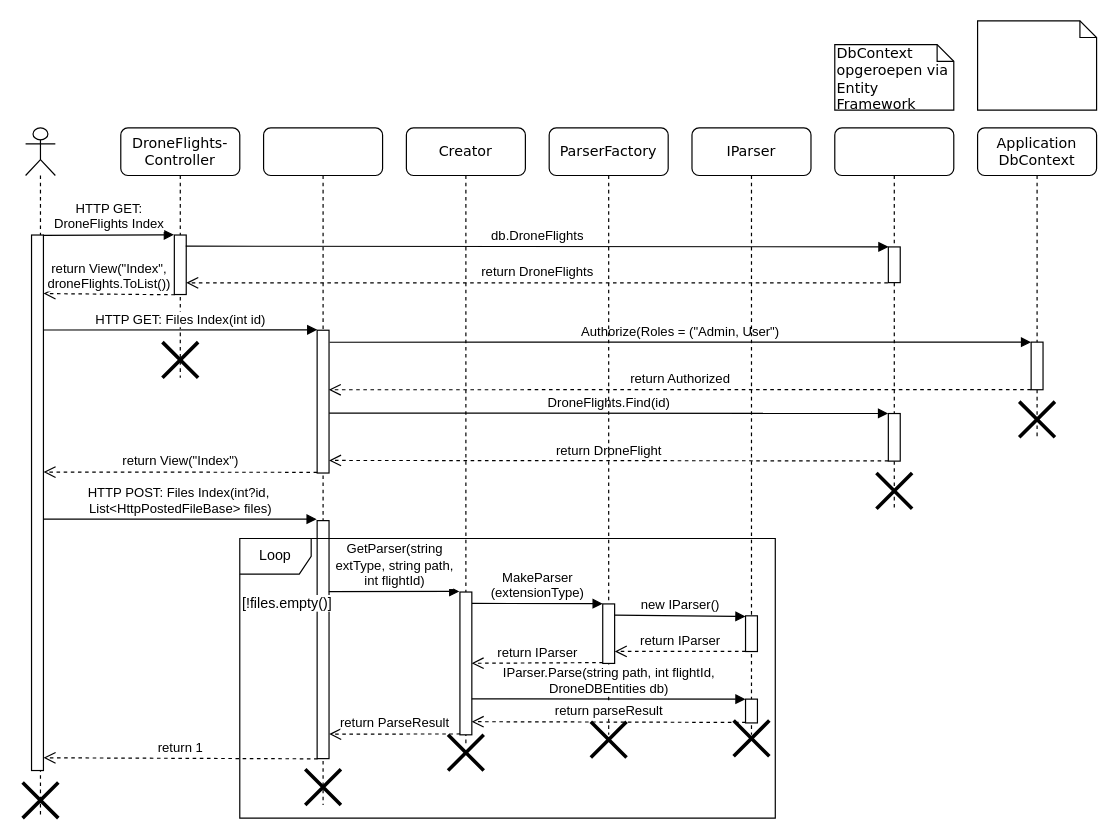
Some shapes in this 1117 by 840 pixel diagram are drawn without their labels. The box of each missing label's shape, as (x1, y1, x2, y2) in pixels:
Application-DbContext opgeroepen via Entity Framework: (976, 20, 1097, 110)
DbContext: (834, 127, 954, 509)
FilesController: (262, 127, 383, 805)
